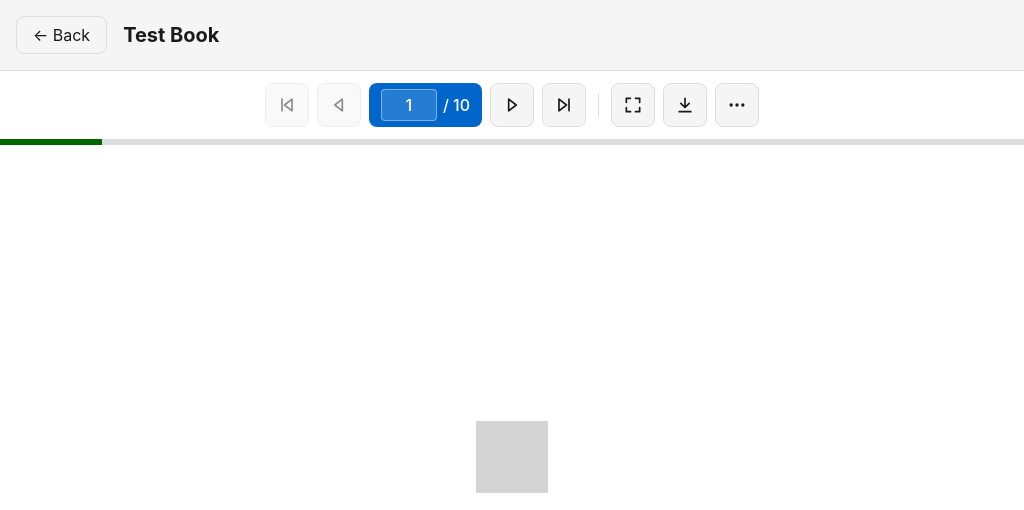
ReaderPage actions menu › should show remove from cache in the menu when the book is cached
Click the button named "More actions" at (737, 105), box [715,83,759,127]
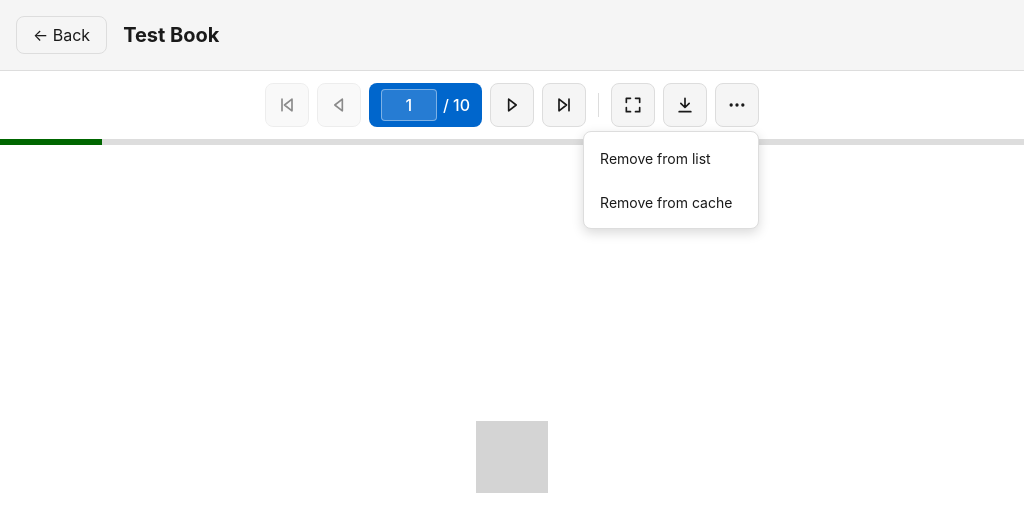
Check: the menu item "Remove from cache" is shown, box [588,180,754,224]
